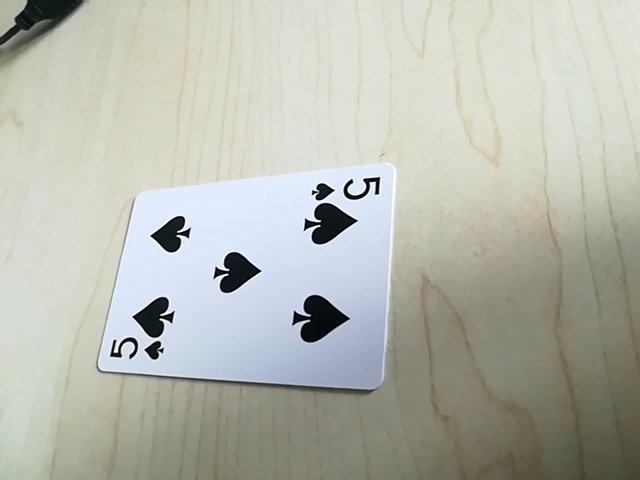ht 5: (100, 332, 171, 368), (309, 170, 385, 202)
